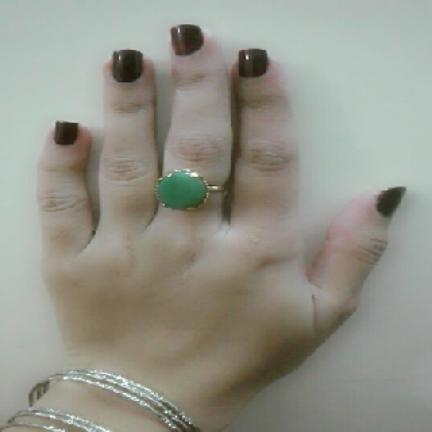Nail: (170, 24, 203, 55), (376, 186, 407, 217), (113, 50, 143, 82), (239, 49, 267, 77), (54, 122, 78, 145)
